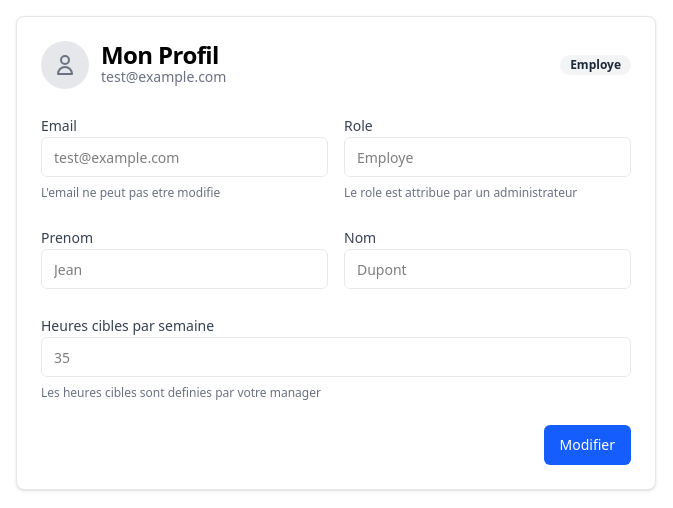
it: ProfilePage › Cancel Edit › resets form values when cancel is clicked
Expected: the heading "Mon Profil" is shown, [101,43,226,67]
Click the button "Modifier" at (587, 445), box [544,425,631,465]
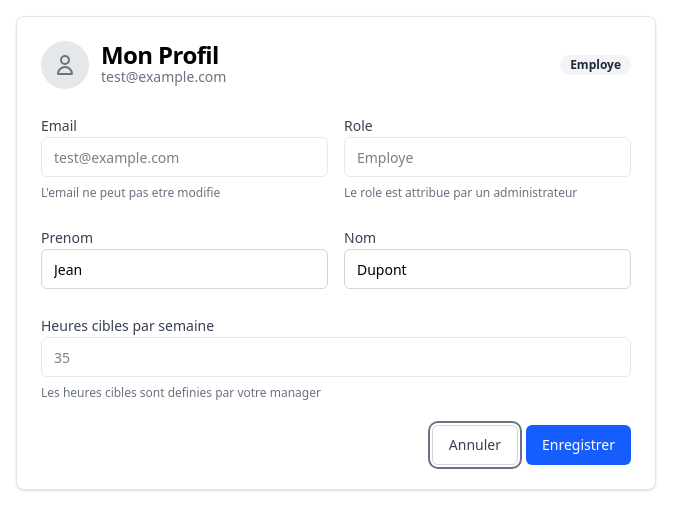
Replace the text in the field labelled "Prenom" with "NouveauNom" at (184, 269), box [41,249,328,289]
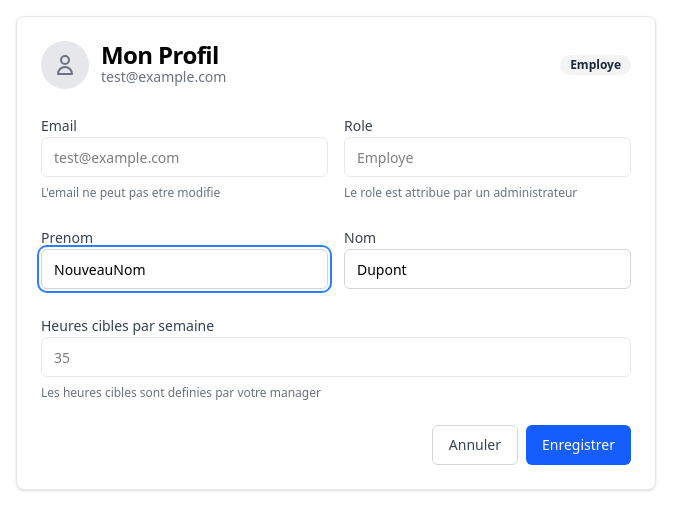
Click the button "Annuler" at (475, 445), box [432,425,518,465]
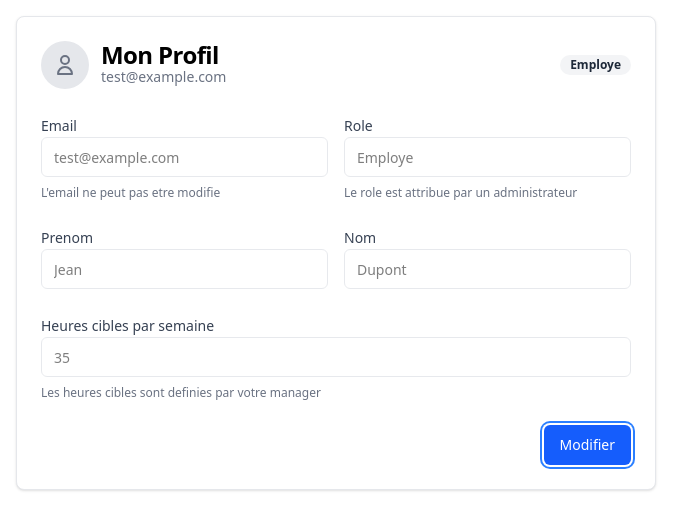
Expected: the field showing "Jean" is shown, [41,249,328,289]
